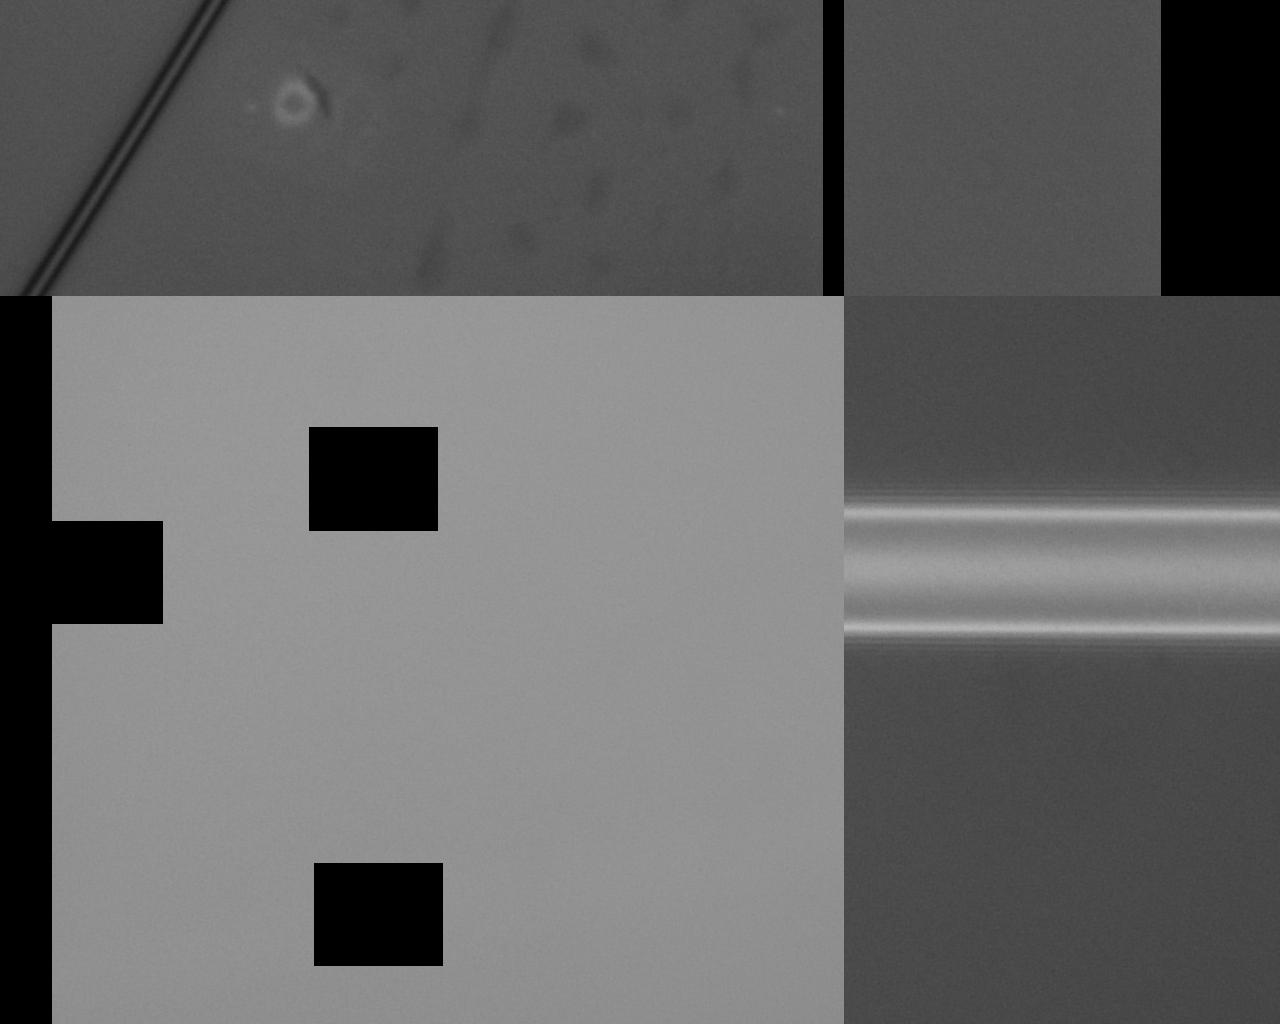fiber: (0, 389, 779, 750), (779, 545, 1280, 821), (192, 0, 465, 389)
